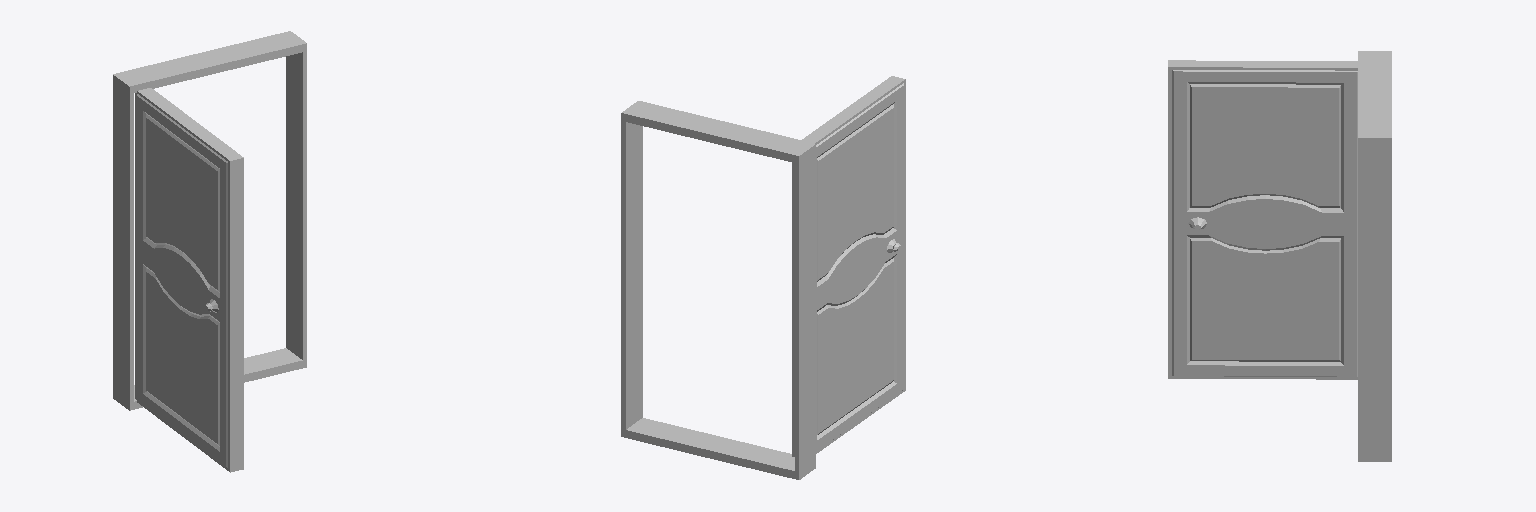
File: drzwiok_000003.obj
3 views of the same model, side by side, from view 1: azimuth 30°, elevation 25°; view 2: azimuth 150°, elevation 25°; view 3: azimuth 270°, elevation 25° (orthographic).
Parts seen in each view (by area): view 1: Door_4.001_Cube.001, Kostka; view 2: Door_4.001_Cube.001, Kostka; view 3: Door_4.001_Cube.001, Kostka.
Part boxes in pixels (left/top/right/bottom): Door_4.001_Cube.001: left=135, top=88, right=243, bottom=472; Kostka: left=113, top=31, right=306, bottom=410; Door_4.001_Cube.001: left=792, top=76, right=905, bottom=456; Kostka: left=621, top=101, right=815, bottom=479; Door_4.001_Cube.001: left=1168, top=60, right=1357, bottom=379; Kostka: left=1358, top=51, right=1391, bottom=461.
Size of the model in its own units: 0.7549 by 1.29 by 0.809.